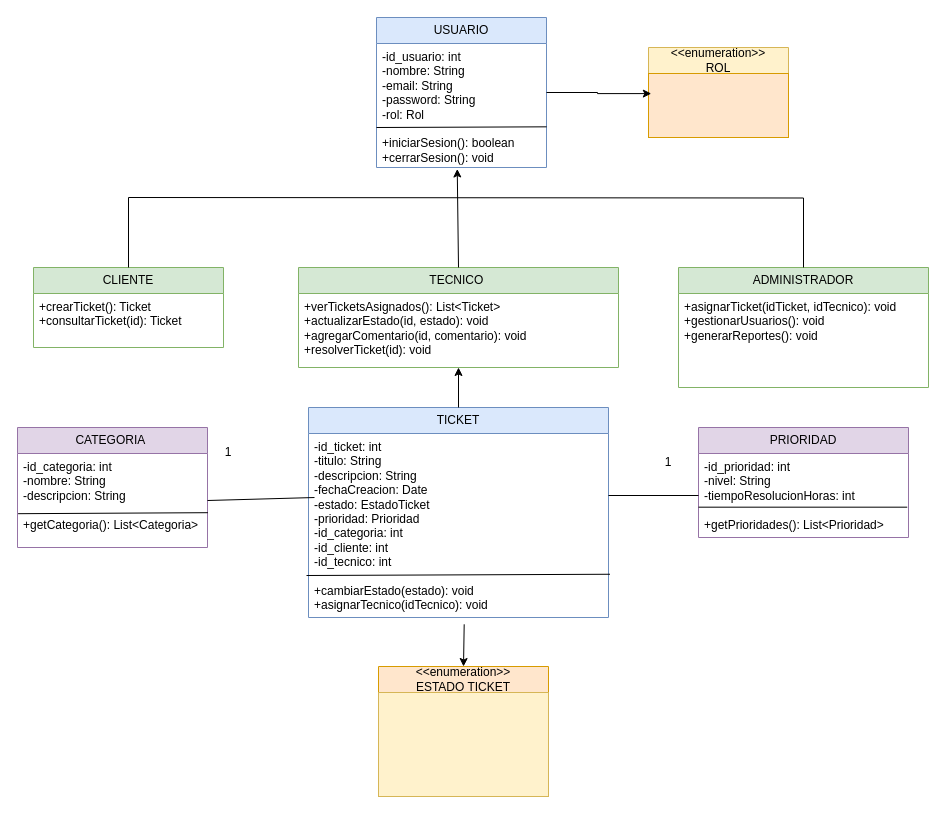
This 946x817 diagram has some shape labels left out. The shapes that lost their labels are listed below. From the top down, each one's centre as x and y in pixels, then its label:
At (718,105): "-CLIENTE - TECNICO -A DMINISTRADOR".
At (463,744): "-NUEVO -ASIGNADO -EN_PROCESO -RESUELTO -CERRADO".
